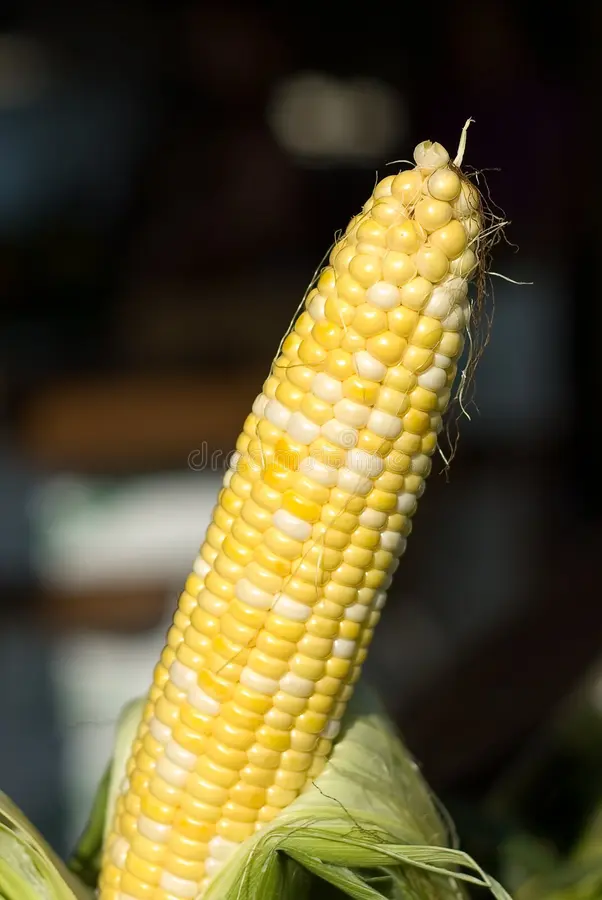corn: (84, 103, 530, 900)
